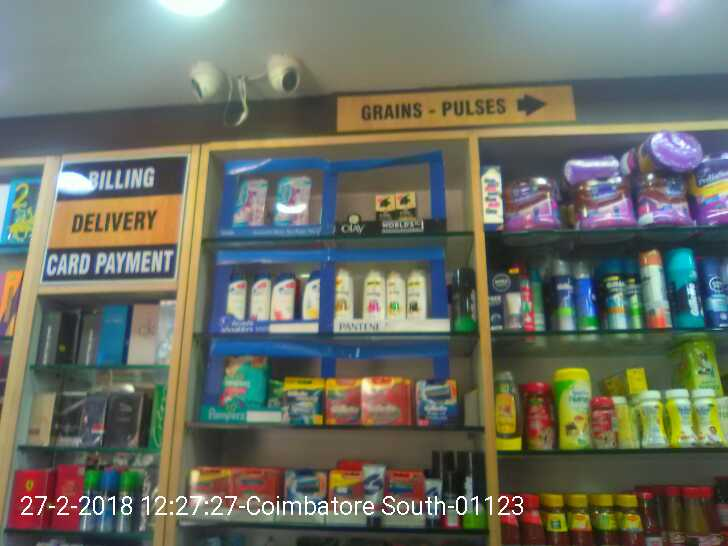gillete: (668, 254, 708, 327), (600, 259, 629, 331), (553, 264, 574, 330), (629, 259, 643, 331)
venus: (278, 175, 310, 224), (240, 175, 268, 224)
